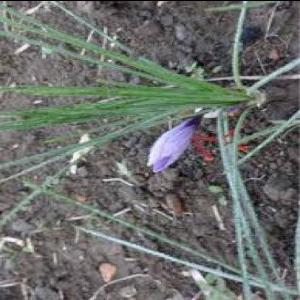Saffron: (146, 110, 204, 170)
